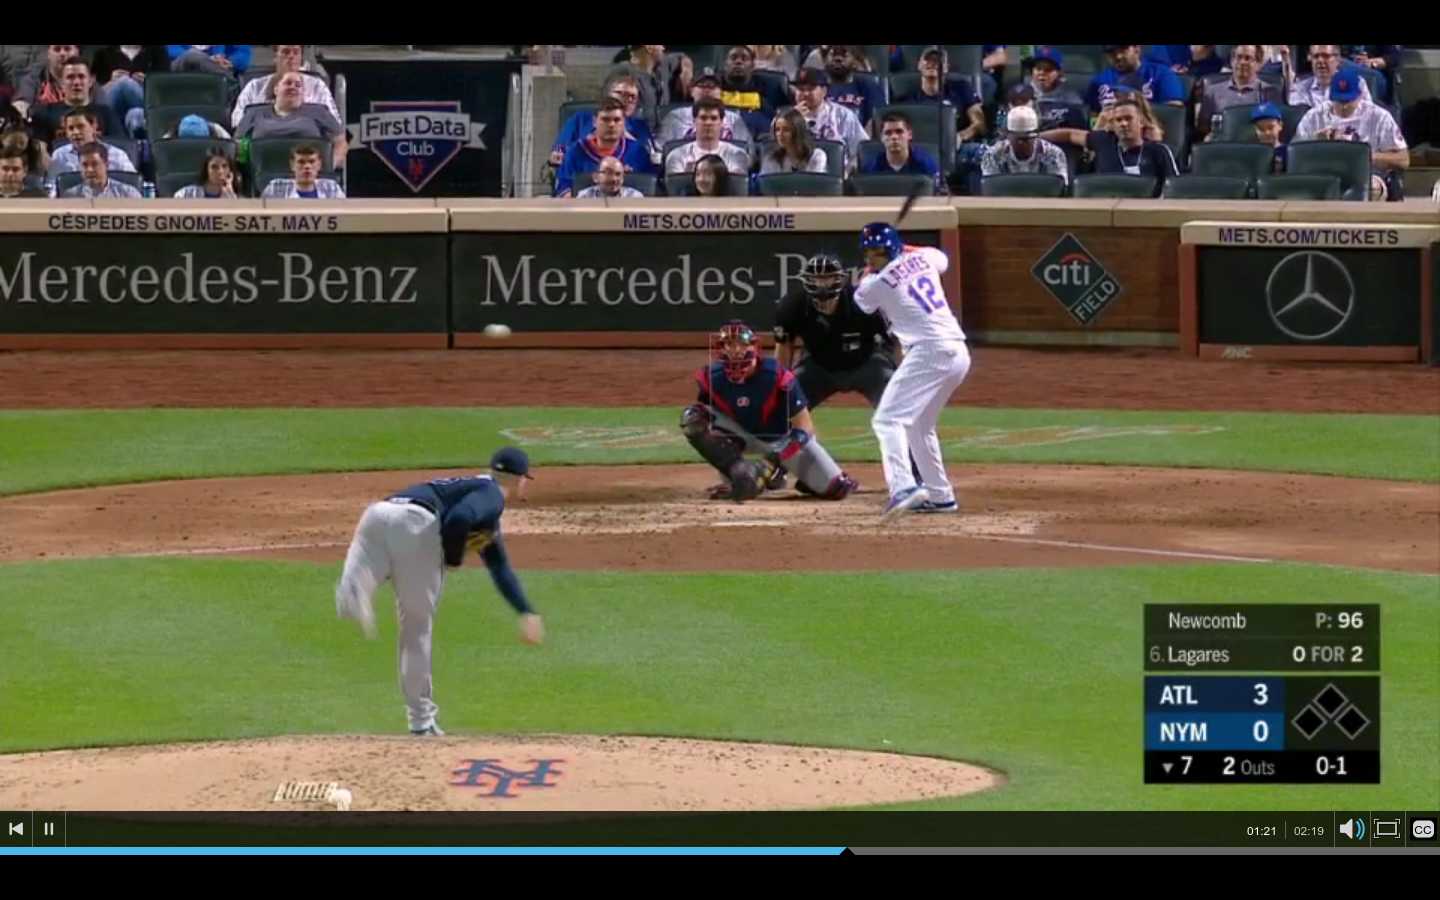baseball: (481, 319, 515, 345)
baseball player: (328, 445, 553, 748), (853, 222, 978, 520), (676, 317, 850, 506)
referee: (770, 257, 925, 492)
